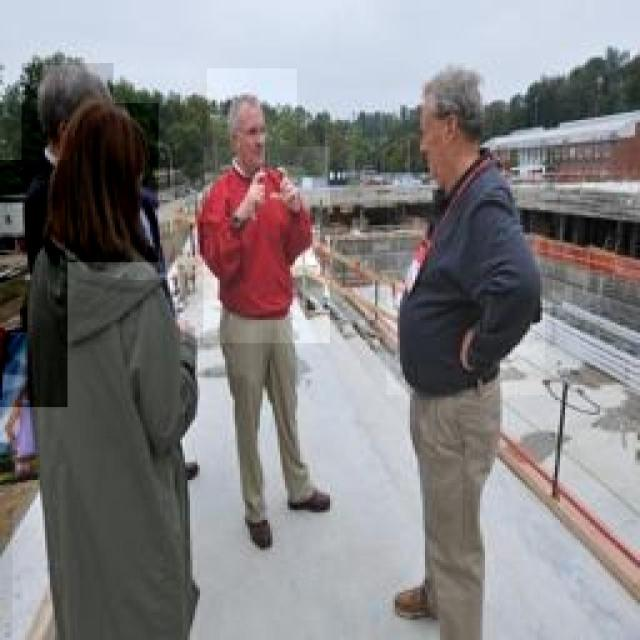Helmet: (13, 262, 185, 640), (387, 157, 545, 396), (204, 147, 330, 343), (45, 103, 159, 274), (391, 50, 505, 212), (0, 160, 68, 407), (207, 68, 297, 186), (22, 63, 114, 164)
